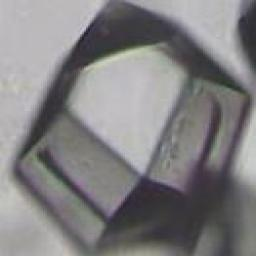crystals: (14, 0, 254, 254)
